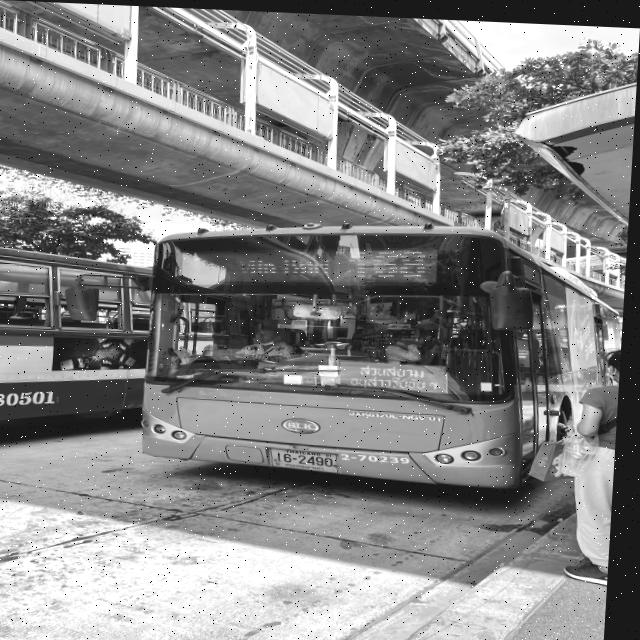BMTA-bus: (143, 212, 620, 490), (0, 244, 158, 433)
Bus-Line-Number: (343, 238, 441, 277)
Destination-Sign-Normal: (344, 359, 454, 390)
